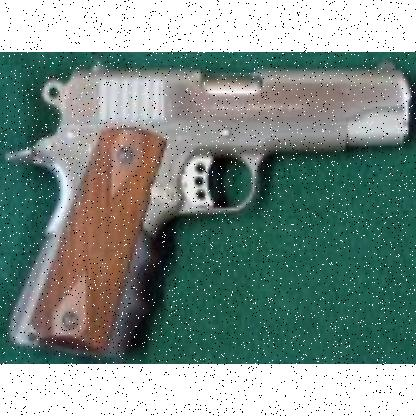gun: (2, 55, 410, 361)
